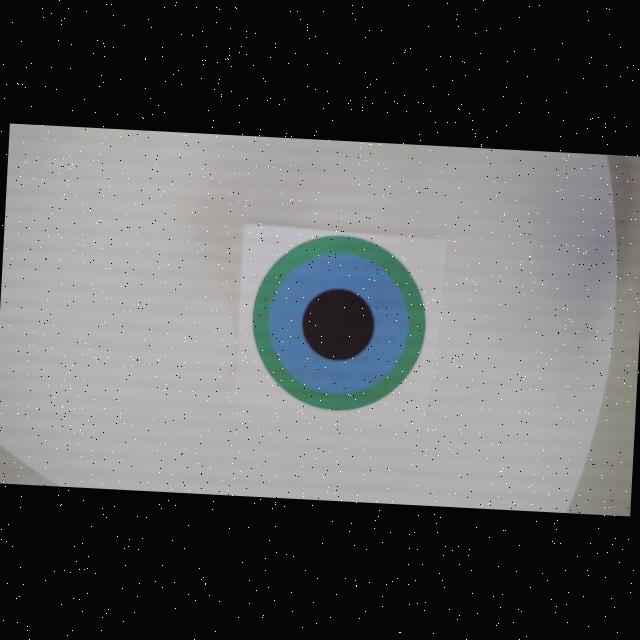COGNITIVE: (248, 231, 430, 415)
